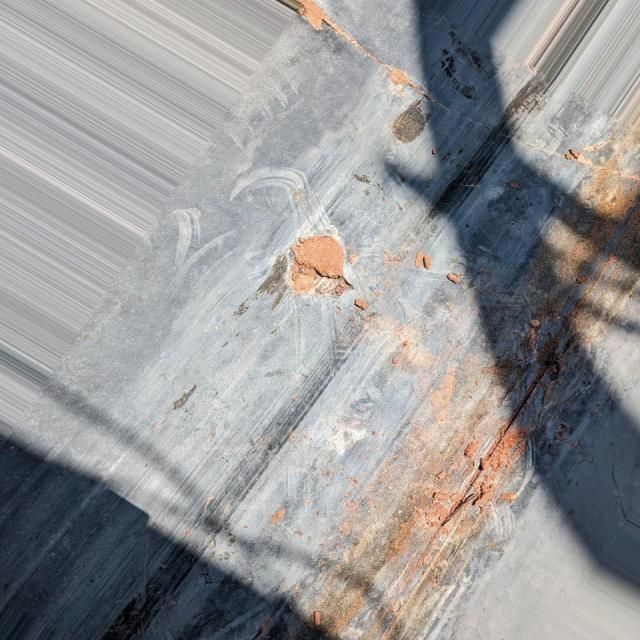impact damage: (279, 149, 640, 640)
